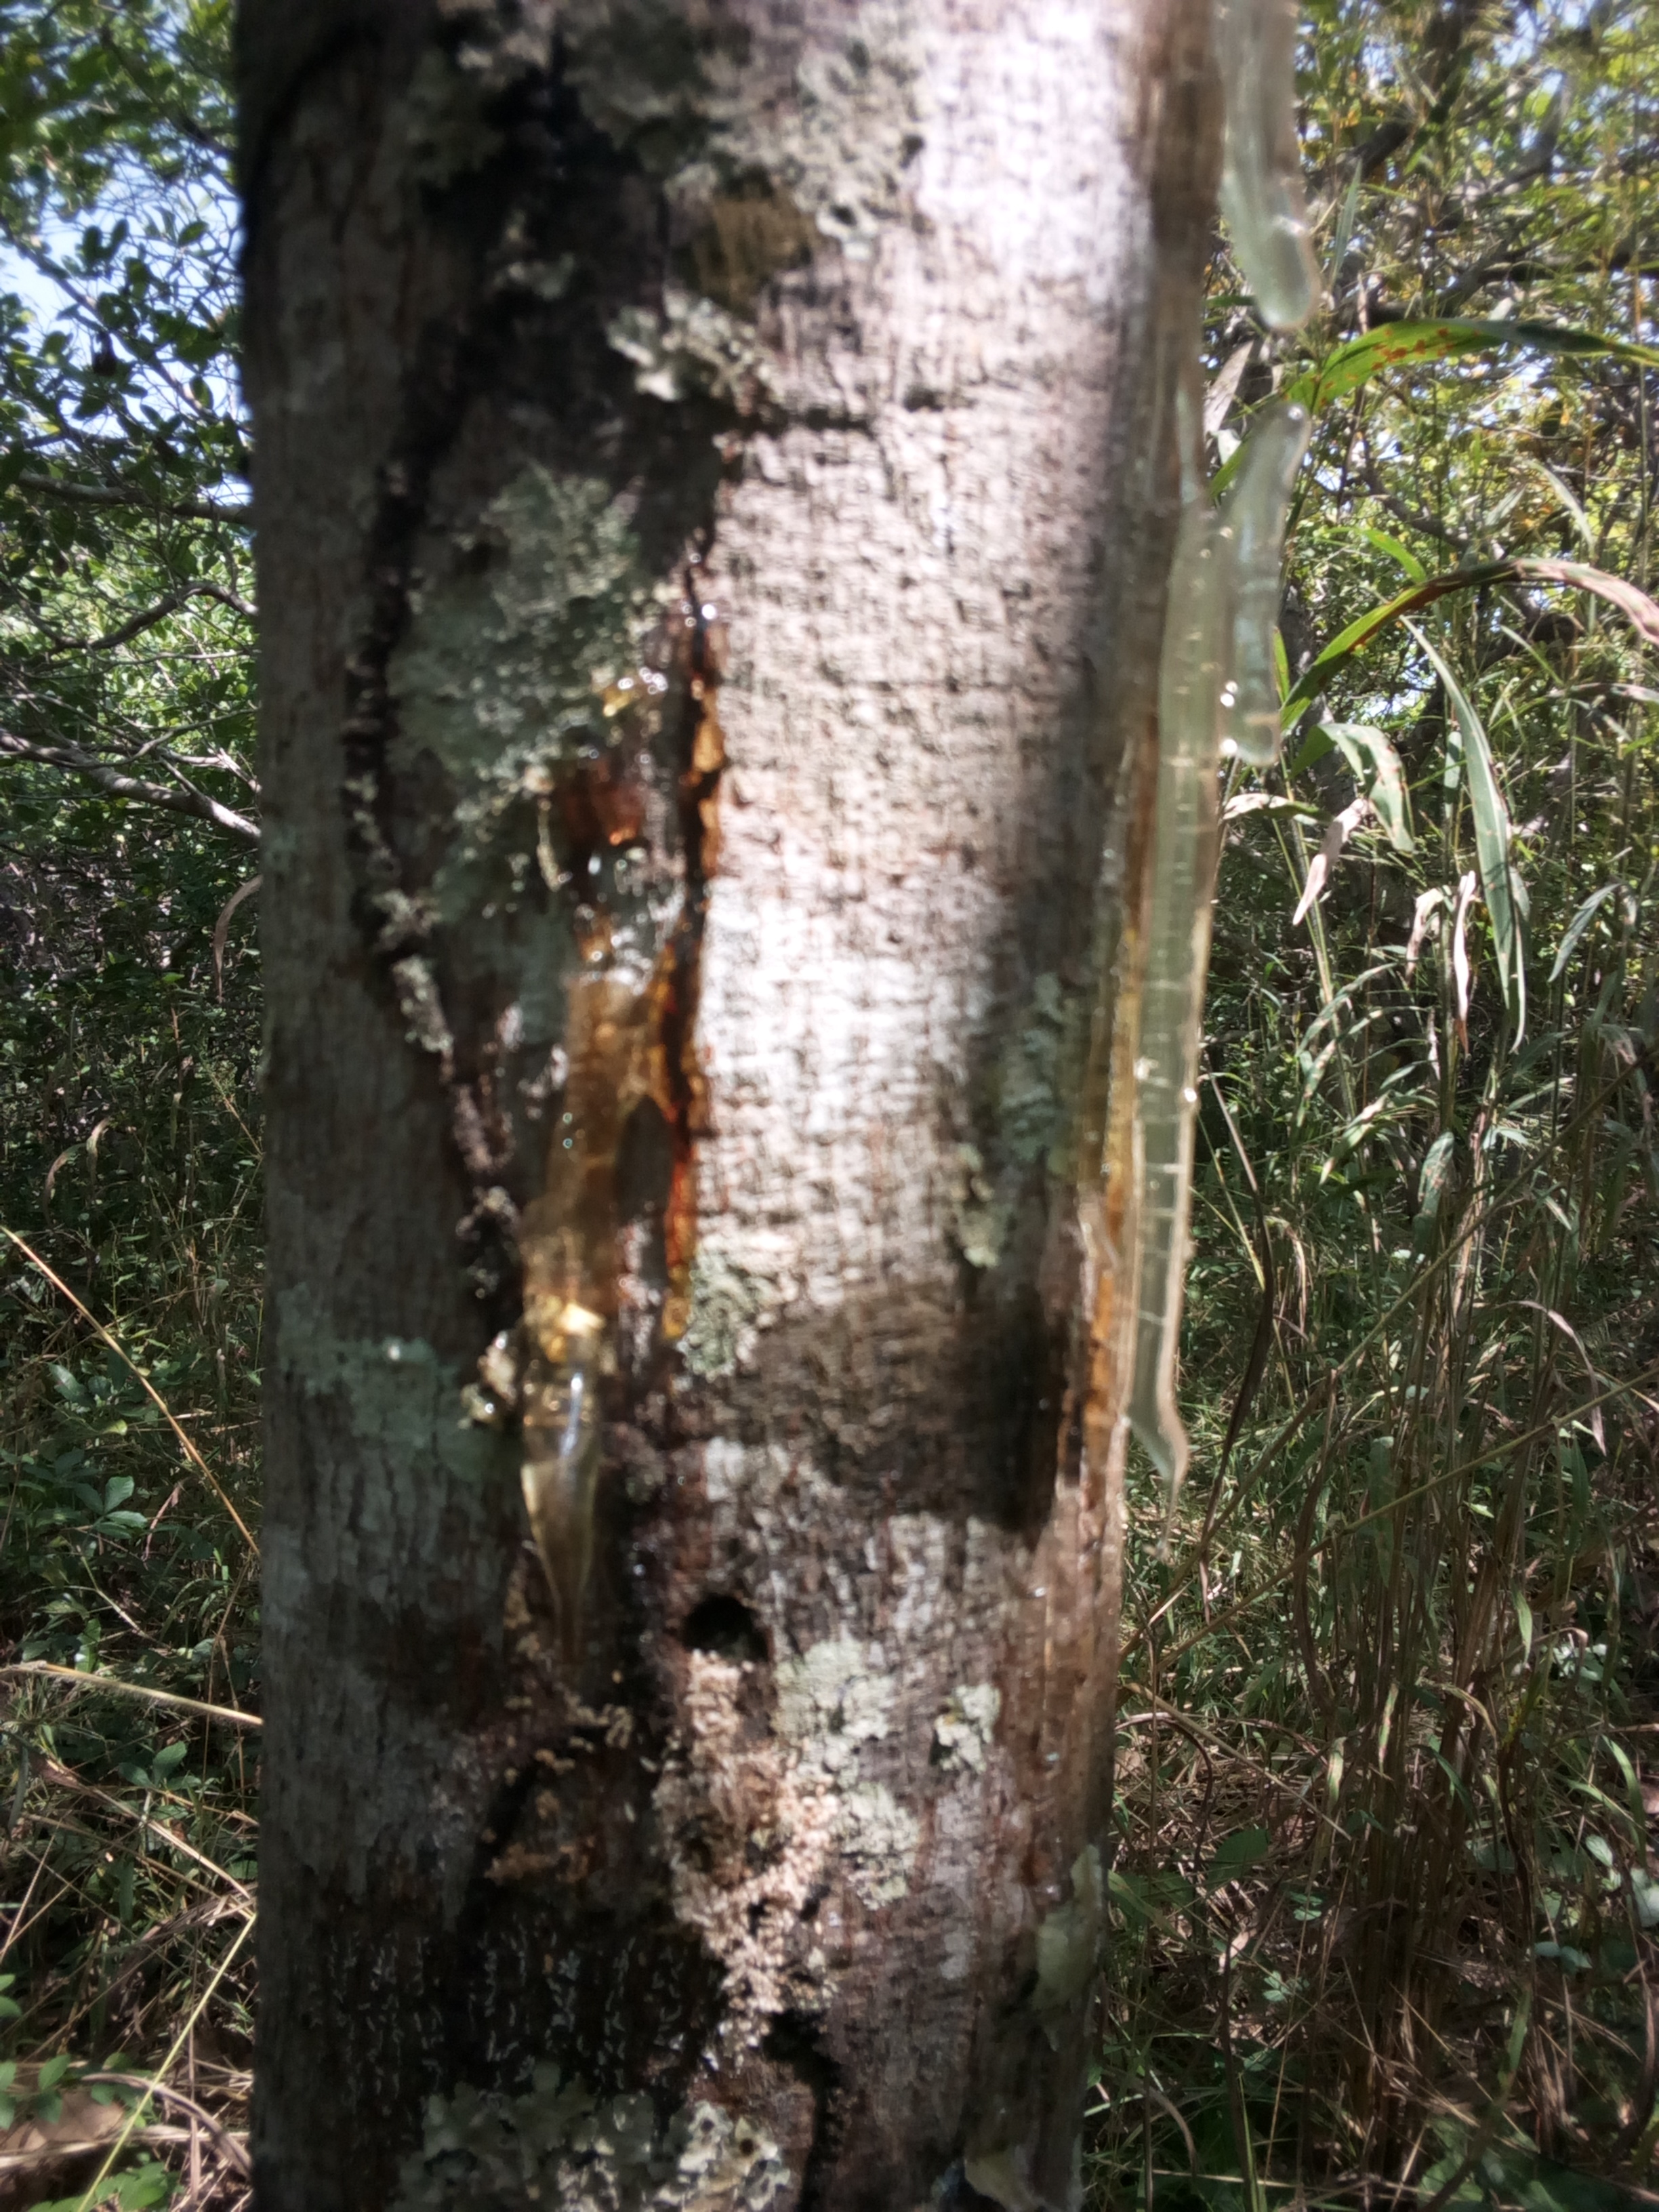Gommose: (385, 1604, 779, 2116)
